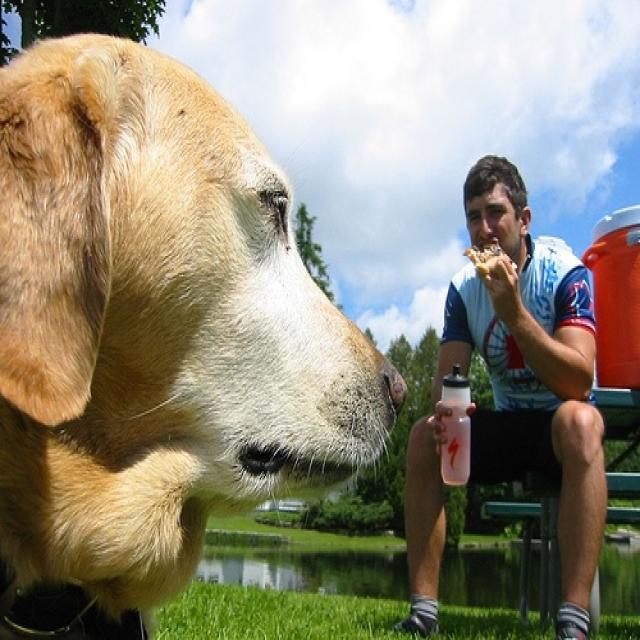dog: (0, 31, 410, 638)
